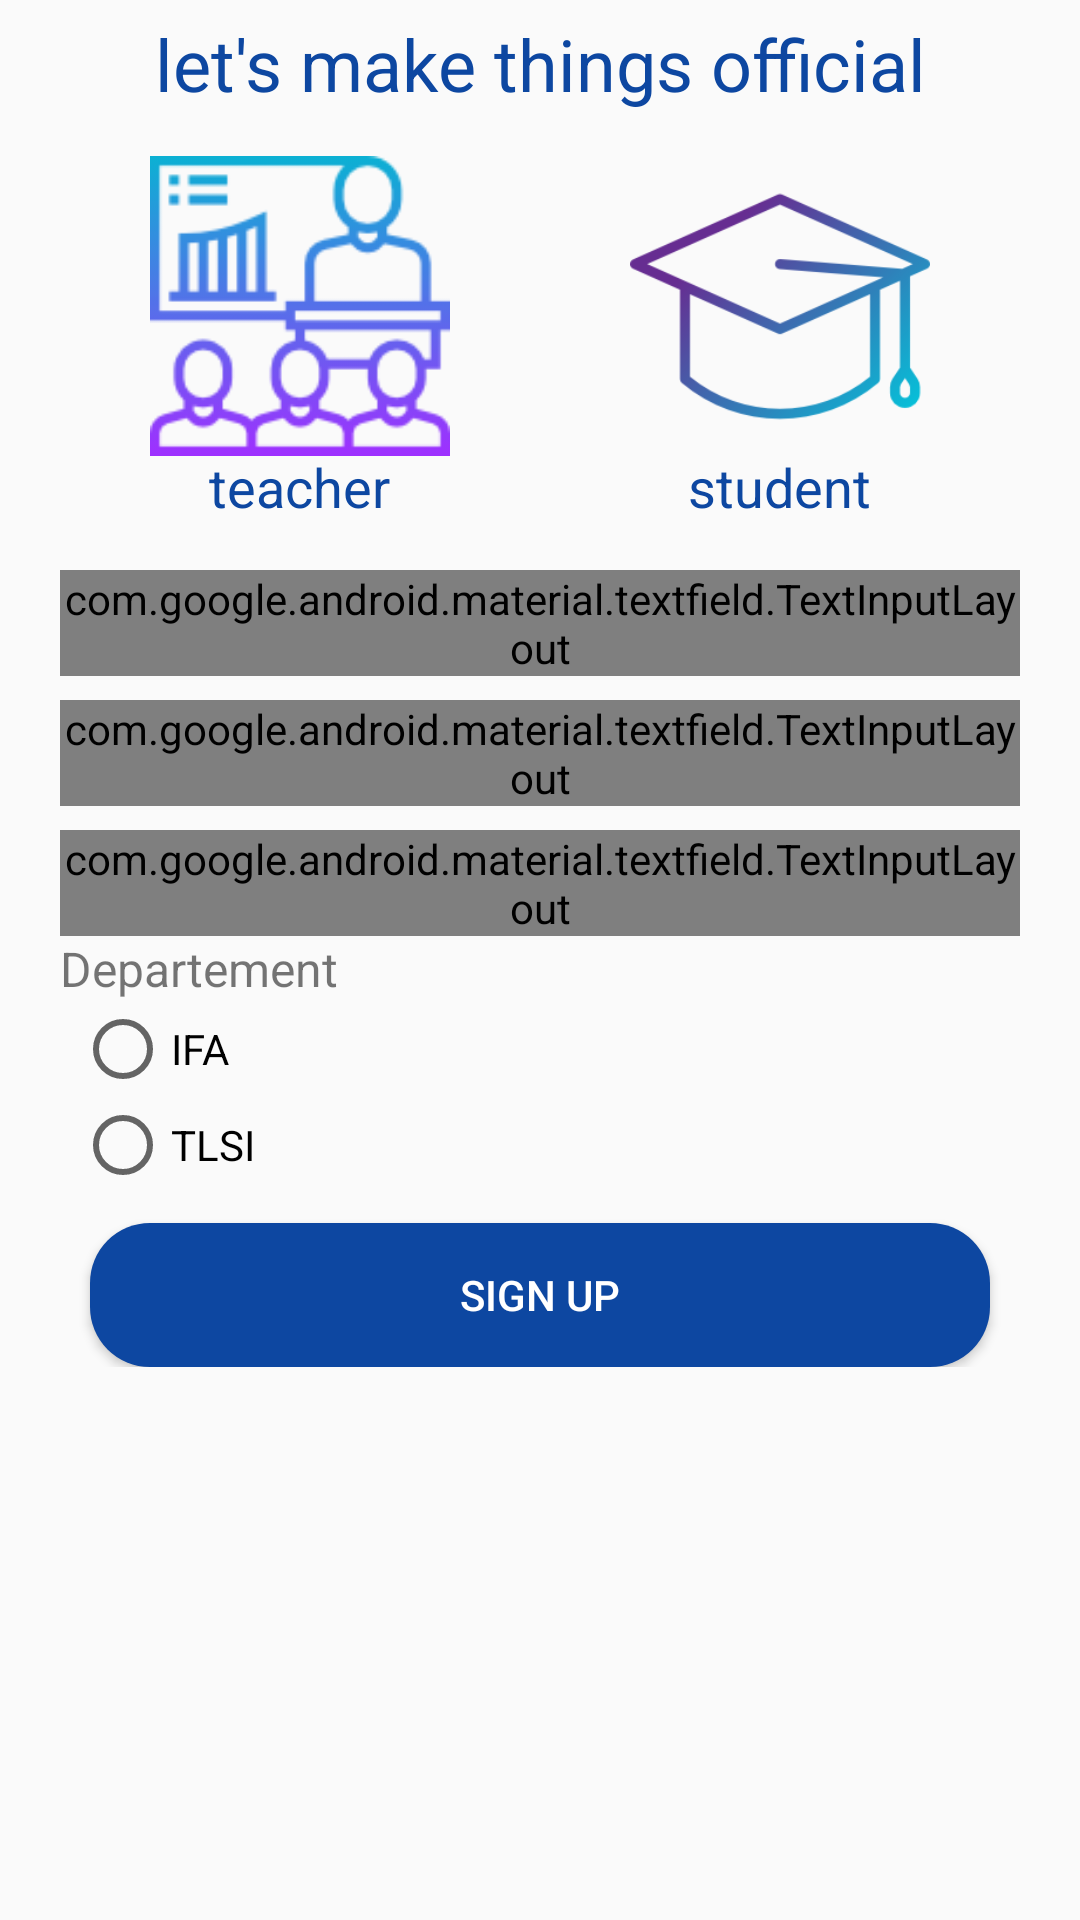

Icons on this 1080px x 1920px Android screen, each with the point to tap as point (x, y):
training: point (300, 306)
